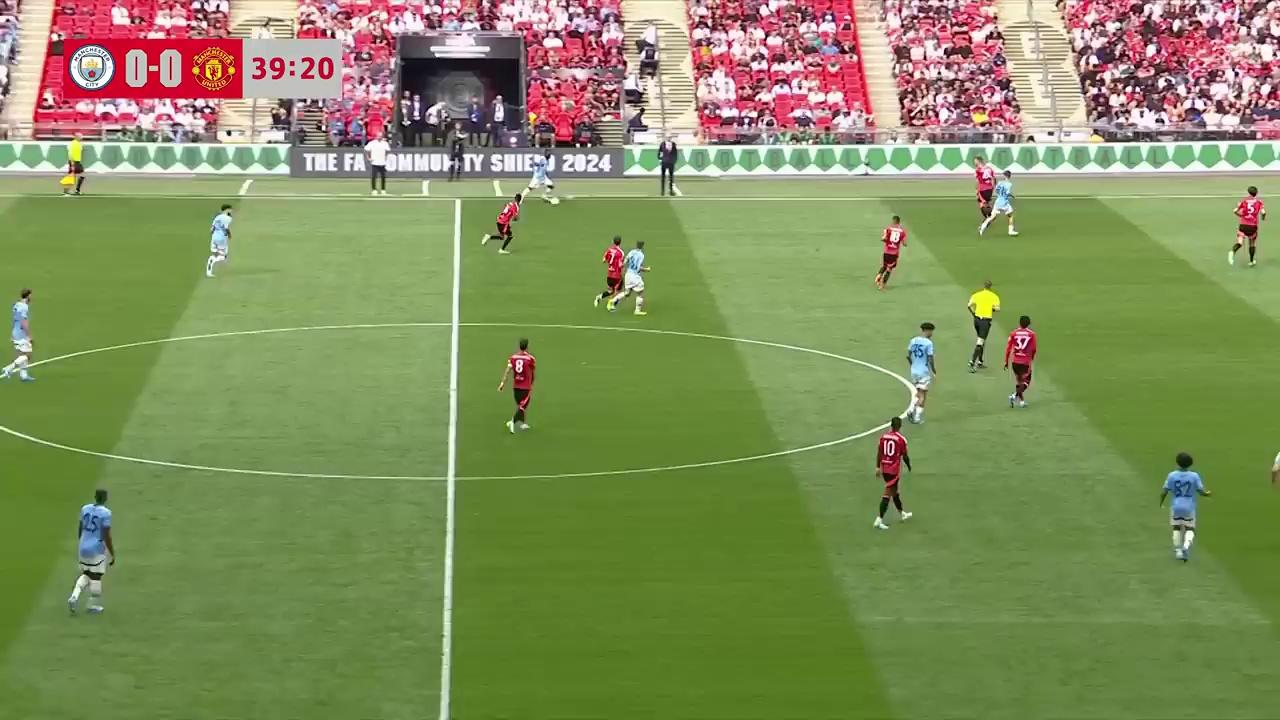player: (68, 485, 115, 617), (1159, 451, 1210, 562), (872, 417, 913, 530), (497, 338, 535, 433), (906, 321, 938, 421), (1002, 315, 1036, 409), (1228, 186, 1267, 267), (2, 287, 35, 382), (481, 193, 523, 253), (874, 215, 907, 290), (982, 169, 1018, 236), (596, 236, 624, 314), (622, 239, 650, 315), (525, 149, 560, 205), (206, 204, 233, 276), (974, 157, 993, 235), (1270, 415, 1280, 493)
referee: (967, 279, 1001, 373), (61, 136, 85, 195)
